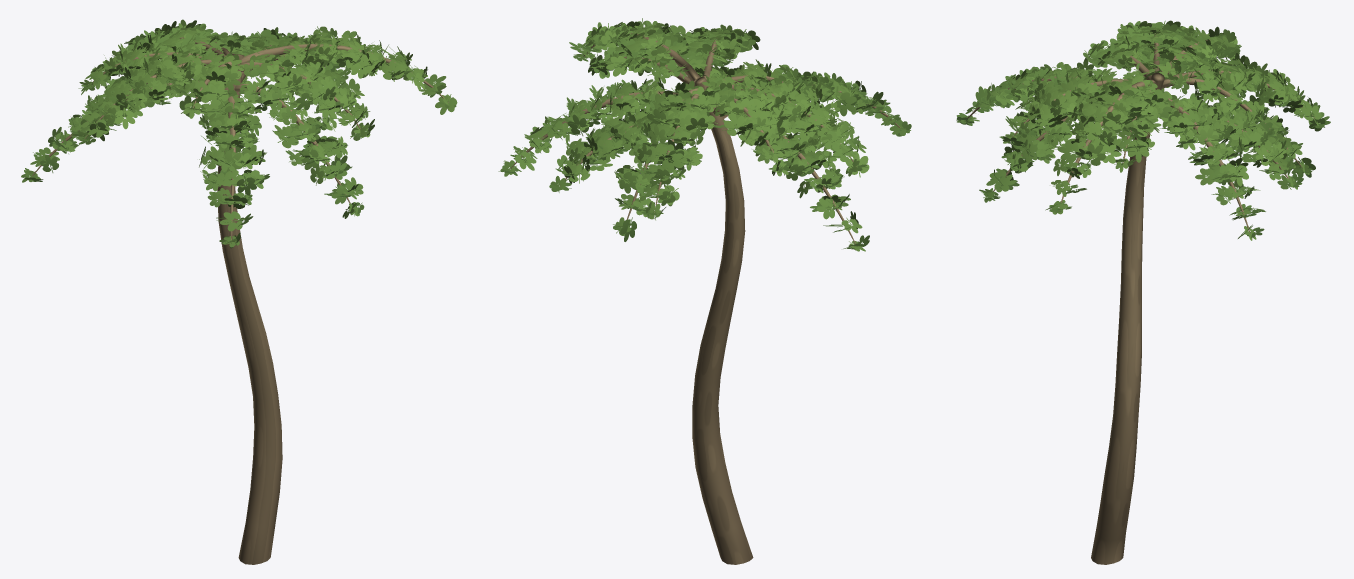
The model's file is tree.gltf.
3 views of the same model, side by side, from view 1: azimuth 30°, elevation 25°; view 2: azimuth 150°, elevation 25°; view 3: azimuth 270°, elevation 25° (orthographic). The views are drawn at different scales.
Parts seen in each view (by area): view 1: Tree_LOD0; view 2: Tree_LOD0; view 3: Tree_LOD0.
Part boxes in pixels (x1,y1,x2,y2): Tree_LOD0: (21, 19, 457, 564); Tree_LOD0: (498, 18, 911, 564); Tree_LOD0: (956, 20, 1330, 564).
Bounding box in the file's own units: 12.94 × 16.76 × 11.66.
Materials: 2 (2 with a texture image).
